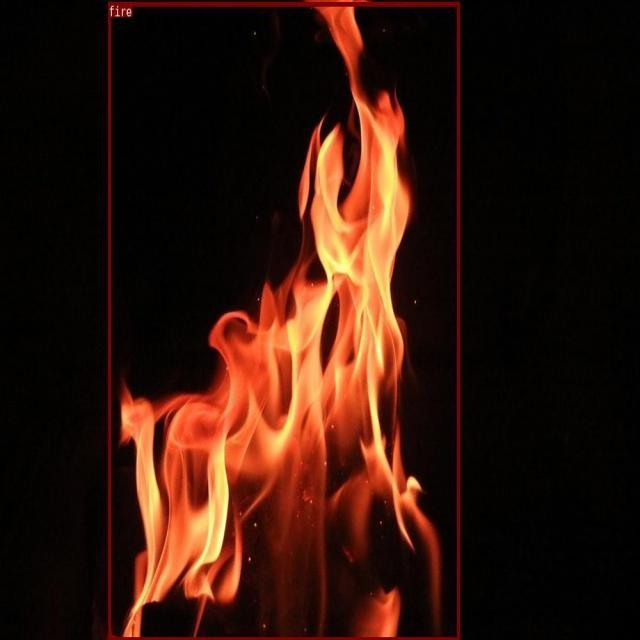fire: (108, 1, 459, 640)
